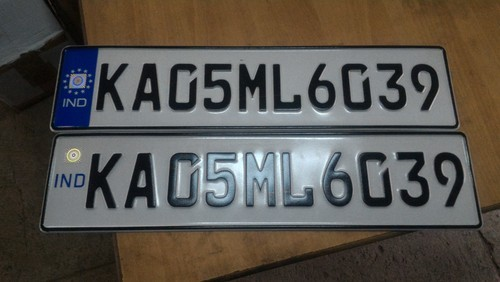inlp: (31, 126, 485, 244), (46, 34, 468, 135)
